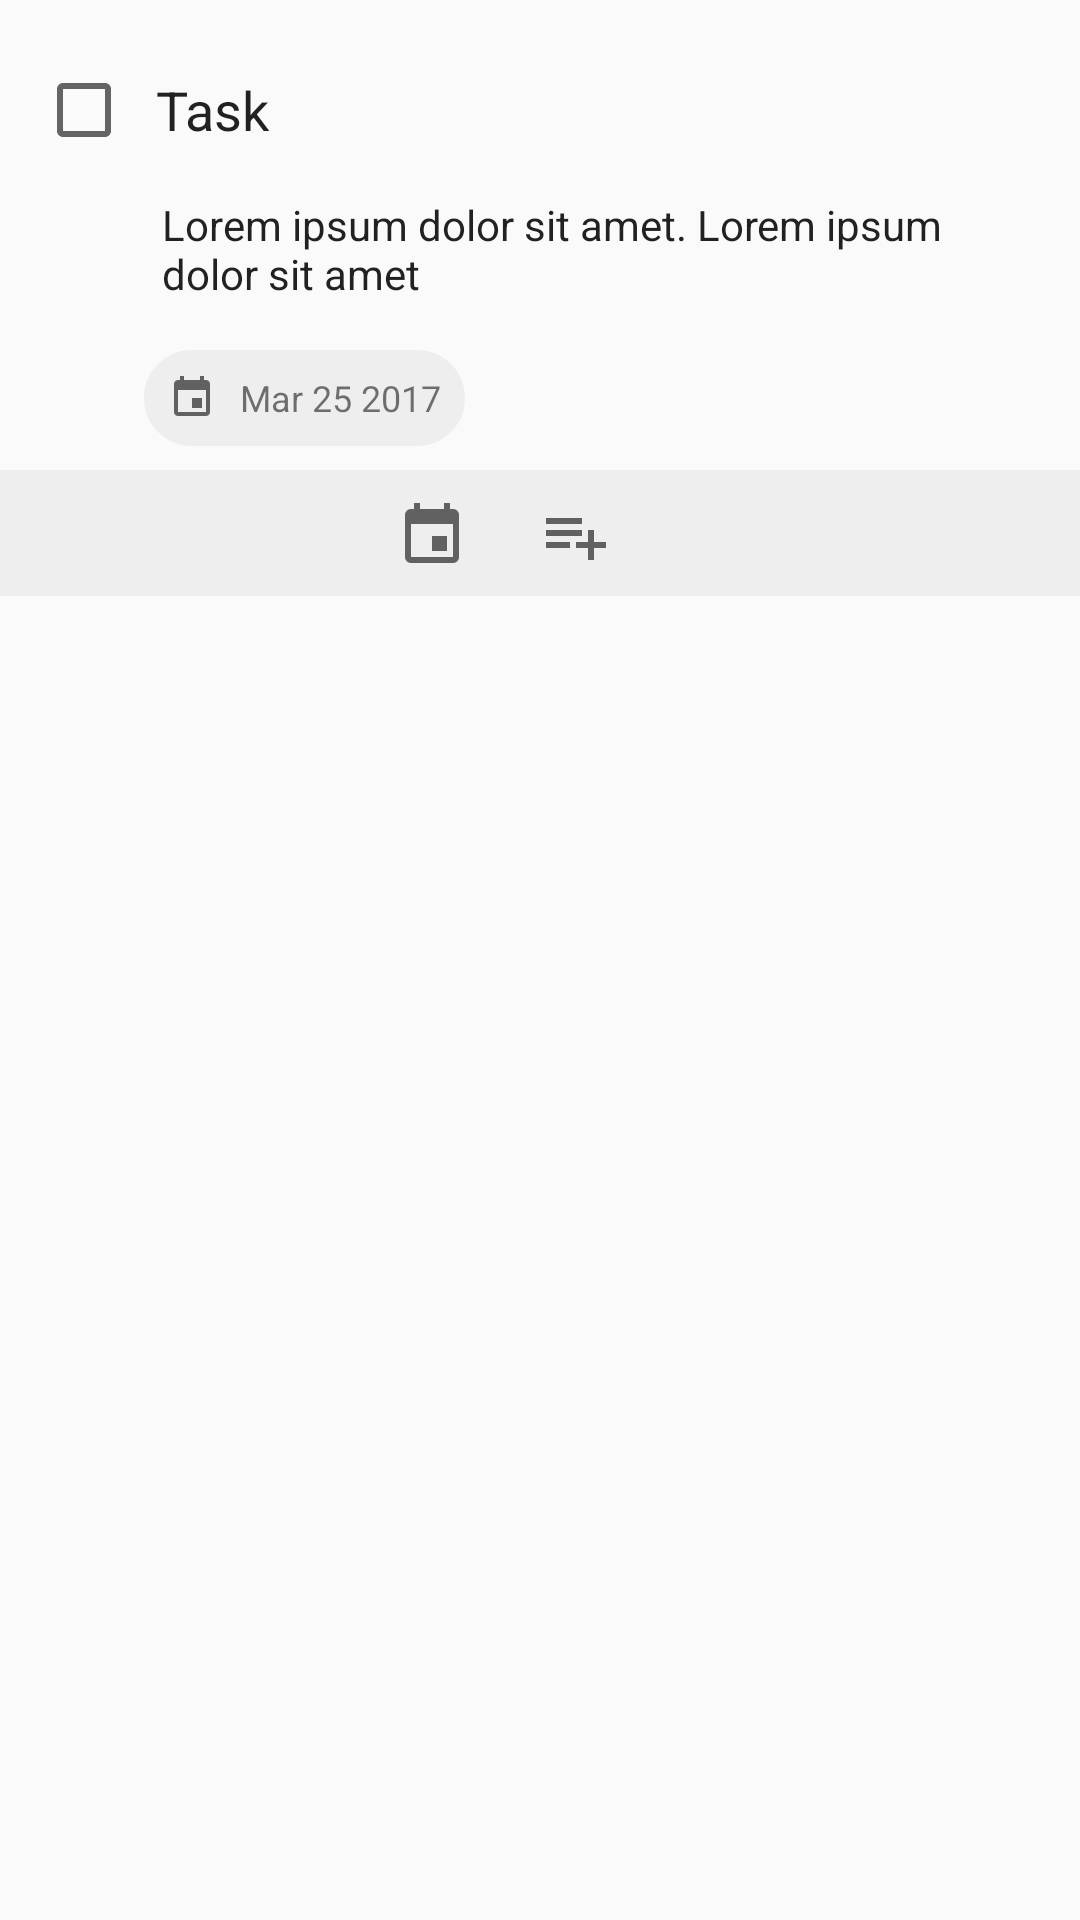

Icons on this 1080 × 1920 Android screen, each with its box as (x1, y1, x2, y2):
event: (174, 376, 210, 416), (405, 503, 459, 563)
subtask add: (546, 518, 606, 560)
